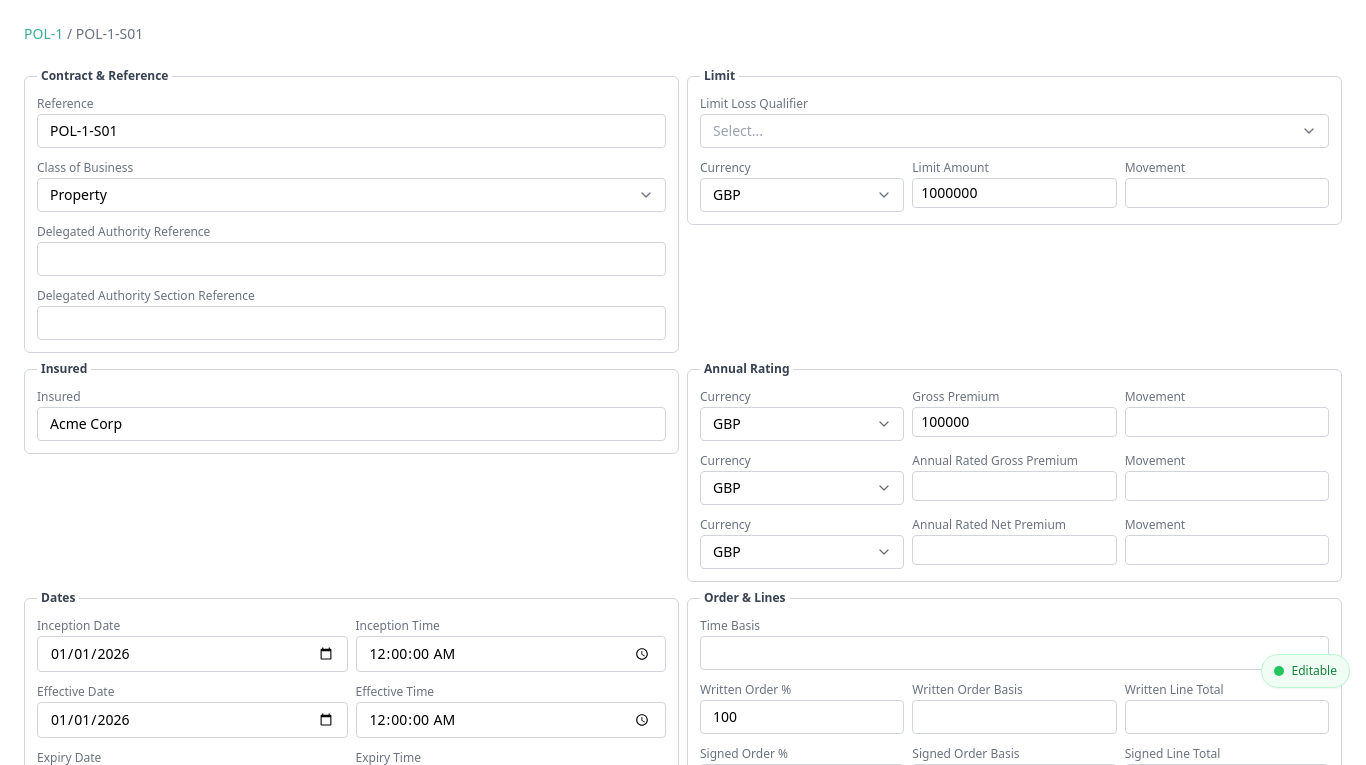
Test case: PolicySectionViewPage › T-POL-FE-F-R015c — editable policy section shows lookup-backed currency and qualifier controls
The width and height of the screenshot is (1366, 765).
Expected: the 1st field showing "POL-1-S01" is shown, 37,114 -> 666,148
Clear the field named "limit currency": (802, 195) 700,178 -> 904,212
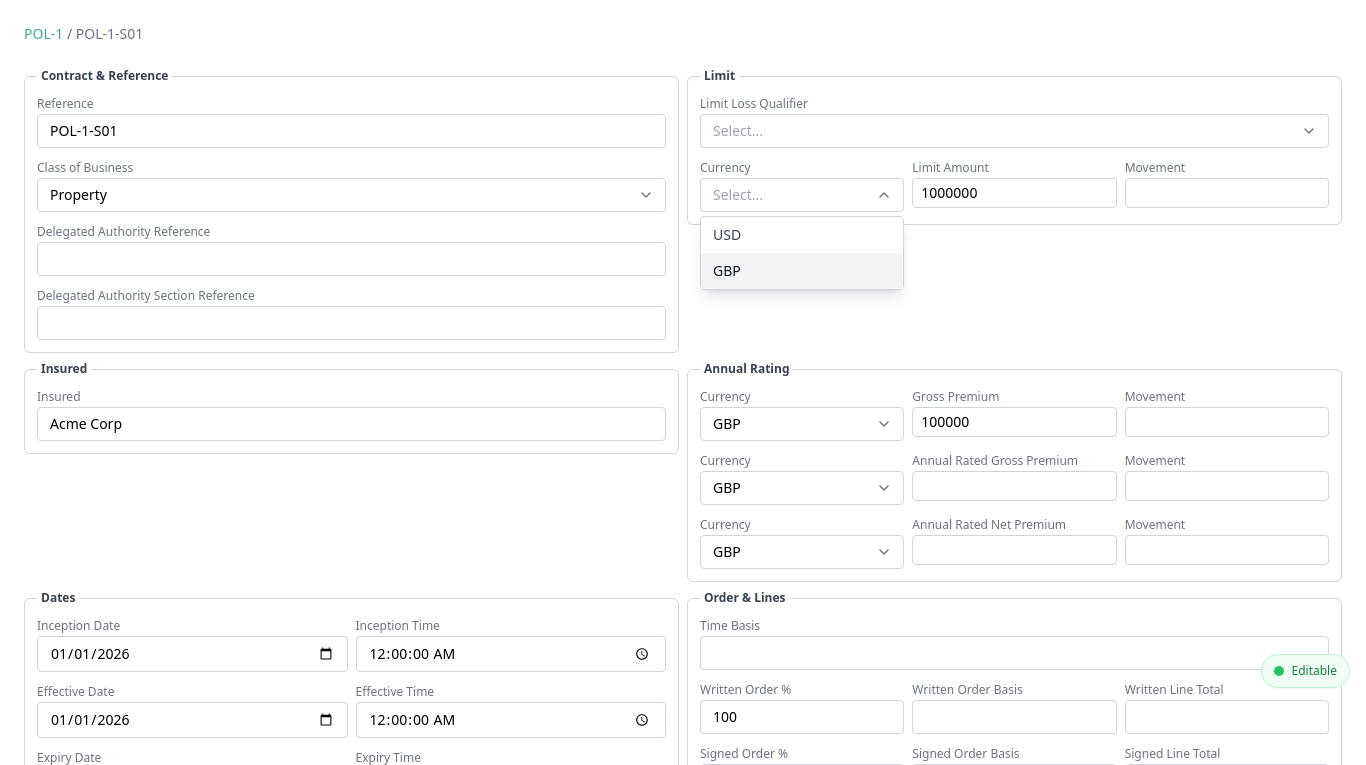
Now the button "USD" is shown, box 701,217 -> 903,253
Focus the field named "limit loss qualifier": (1014, 131) 700,114 -> 1329,148
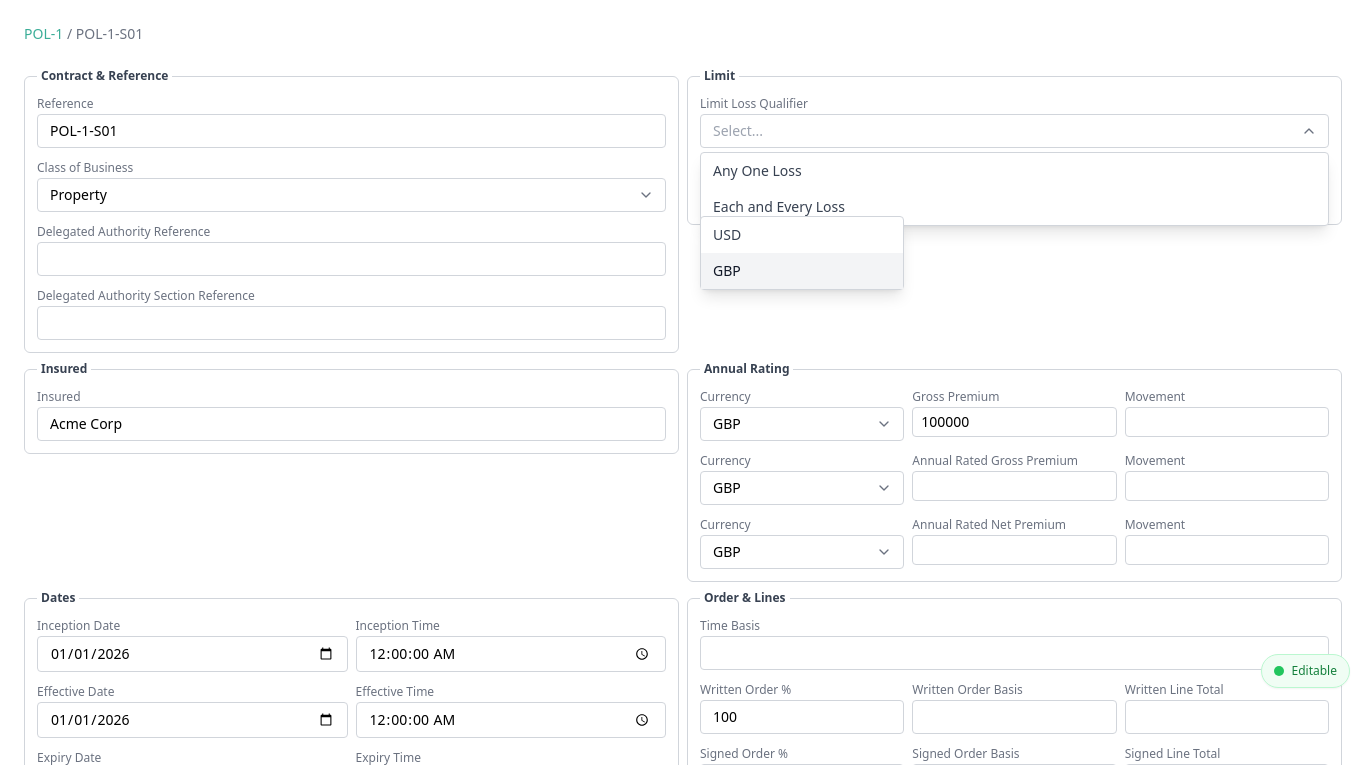
Now the button "Any One Loss" is shown, box 701,153 -> 1328,189
